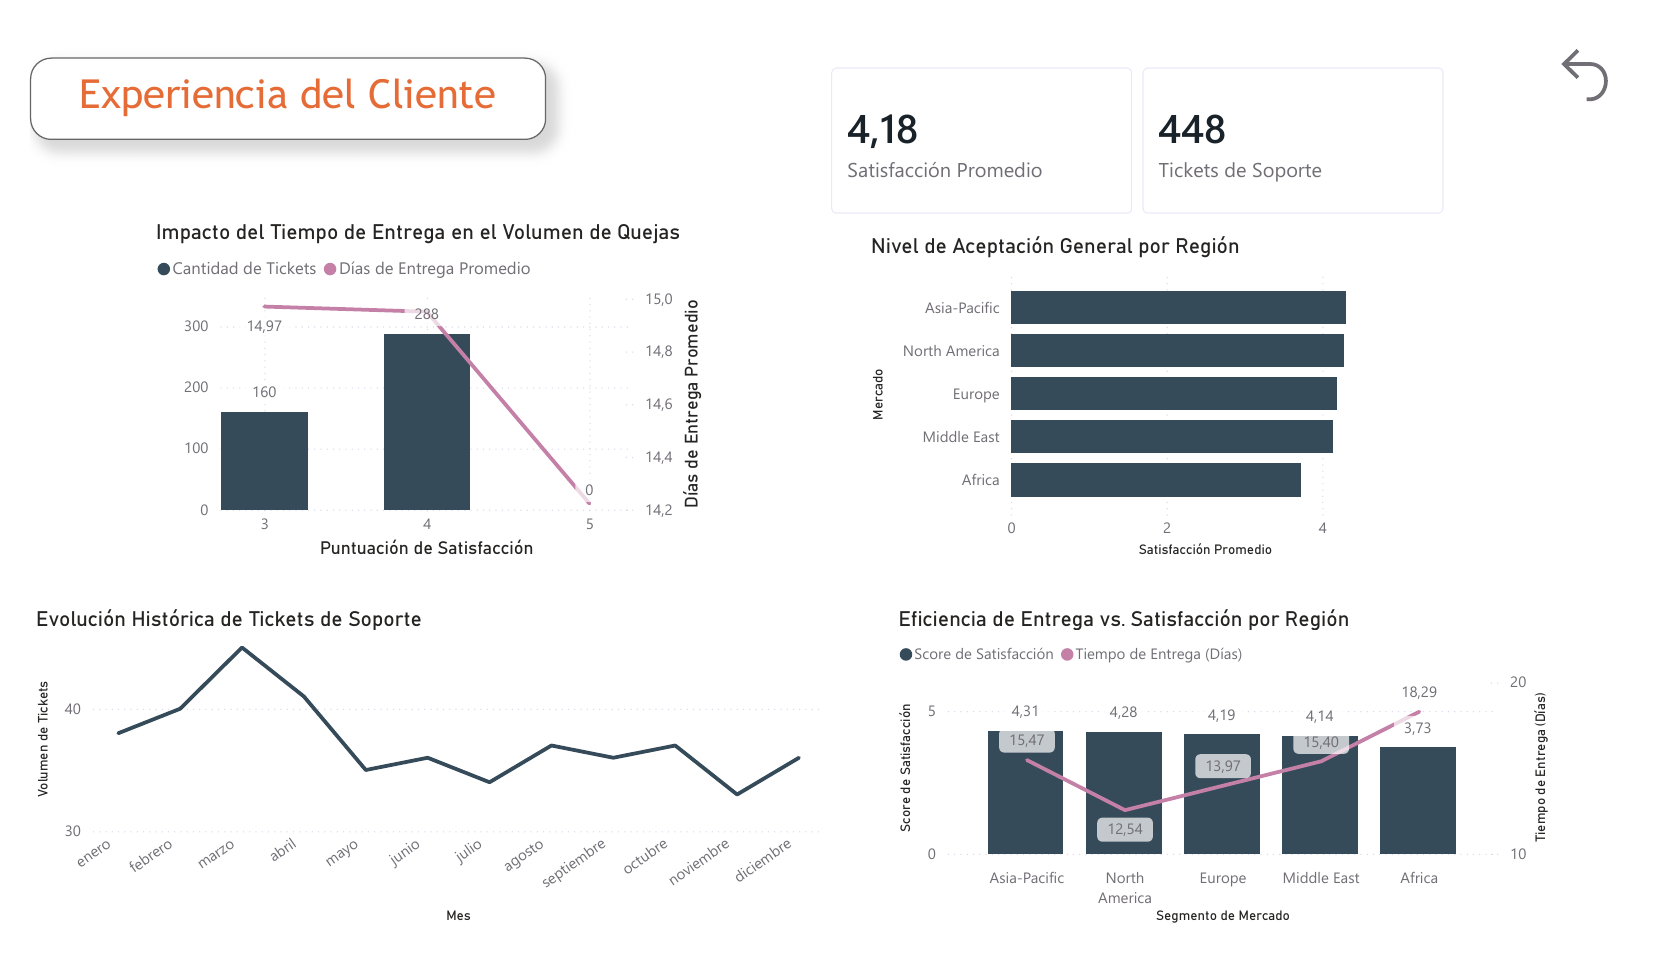

The page's visual inventory and layout, read from the dashboard file:
{"tool":"powerbi","page":{"name":"Experiencia del Cliente","canvas":[1280,720],"ordinal":3},"visuals":[{"type":"actionButton","box":[1208,0,72,72],"z":0},{"type":"textbox","box":[0,21.7,413.3,66.7],"z":1000},{"type":"cardVisual","fields":{"Data":["Avg(customer.satisfaction_score)","Sum(customer.support_tickets)"]},"box":[624.3,12.9,524.3,151.4],"z":2000},{"type":"lineStackedColumnComboChart","title":"Impacto del Tiempo de Entrega en el Volumen de Quejas","fields":{"Category":["customer.satisfaction_score"],"Y":["Sum(customer.support_tickets)"],"Y2":["Avg(customer.lead_time_days)"]},"box":[96.1,152.3,446,274.4],"z":3000},{"type":"barChart","title":"Nivel de Aceptación General por Región","fields":{"Category":["customer.market_segment"],"Y":["Avg(customer.satisfaction_score)"]},"box":[668.3,163.3,436.4,263.5],"z":4000},{"type":"lineStackedColumnComboChart","title":"Eficiencia de Entrega vs. Satisfacción por Región","fields":{"Category":["customer.market_segment"],"Y":["Avg(customer.satisfaction_score)"],"Y2":["Avg(customer.lead_time_days)"]},"box":[690,461.4,530,258.6],"z":5000},{"type":"lineChart","title":"Evolución Histórica de Tickets de Soporte","fields":{"Category":["calendario.Date.Variación.Jerarquía de fechas.Año","calendario.Date.Variación.Jerarquía de fechas.Trimestre","calendario.Date.Variación.Jerarquía de fechas.Mes","calendario.Date.Variación.Jerarquía de fechas.Día"],"Y":["Sum(customer.support_tickets)"]},"box":[0,461.4,640,258.6],"z":6000}]}

Visuals, with their boxes in screenshot pixels (x1, y1, x2, y2), scaled from the page's 1280x720 canvas onto the 1660x960 screenshot:
actionButton: l=1567, t=0, r=1659, b=96
textbox: l=0, t=29, r=536, b=118
cardVisual - Avg(customer.satisfaction_score) x Sum(customer.support_tickets): l=810, t=17, r=1490, b=219
"Impacto del Tiempo de Entrega en el Volumen de Quejas" lineStackedColumnComboChart: l=125, t=203, r=703, b=569
"Nivel de Aceptación General por Región" barChart: l=867, t=218, r=1433, b=569
"Eficiencia de Entrega vs. Satisfacción por Región" lineStackedColumnComboChart: l=895, t=615, r=1582, b=959
"Evolución Histórica de Tickets de Soporte" lineChart: l=0, t=615, r=830, b=959
